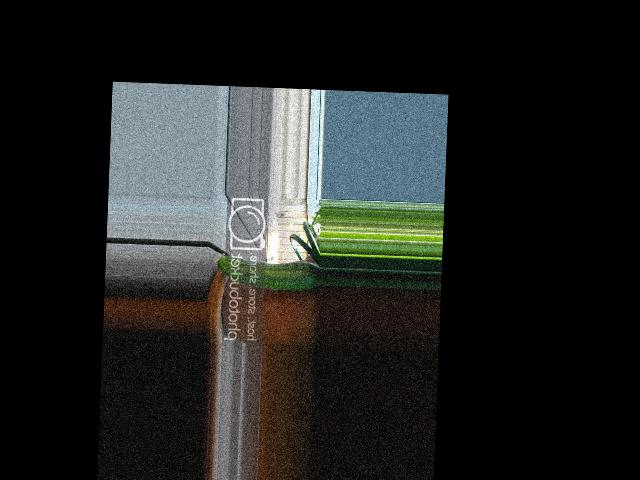cucumber: (211, 255, 318, 291)
